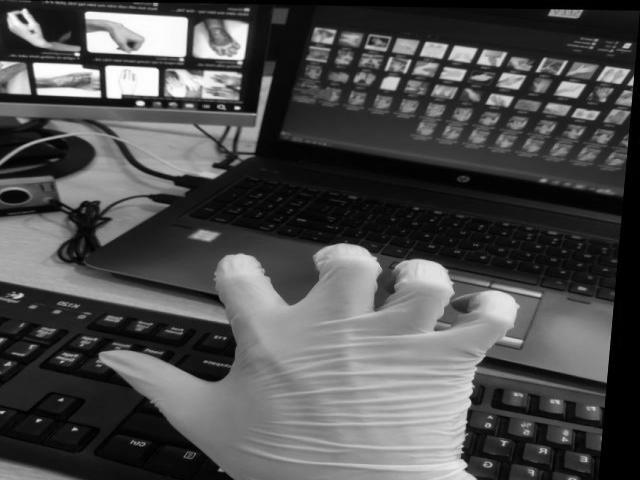gloved: (111, 242, 518, 480)
